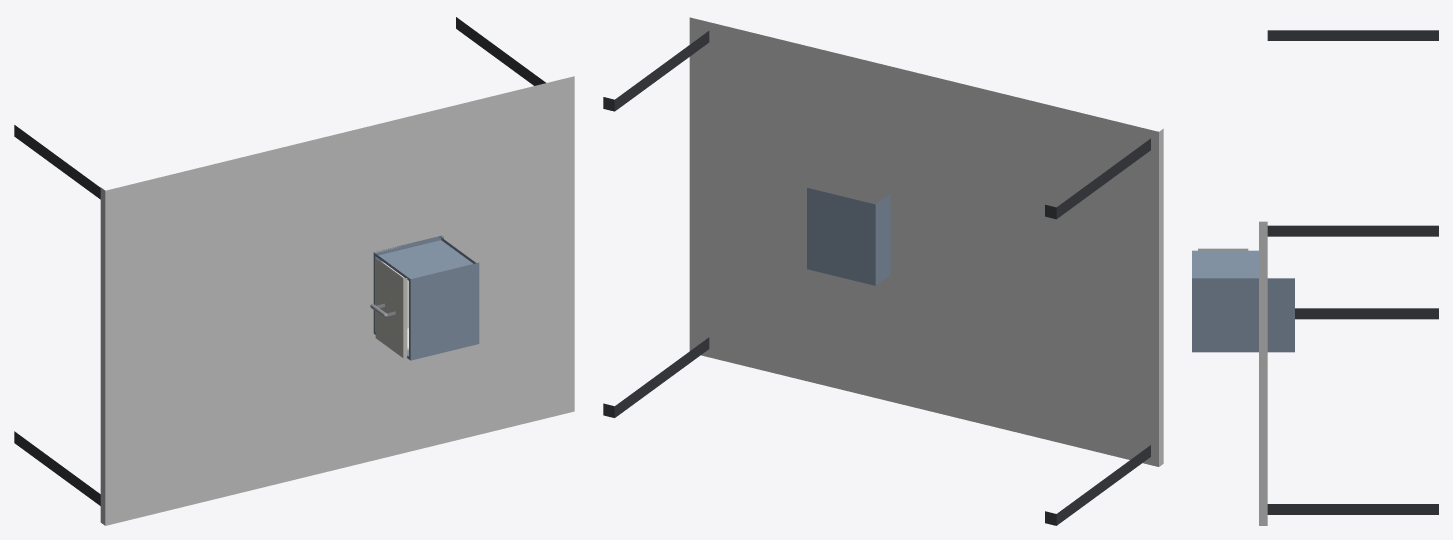
File: t2_db4decf535.glb
3 renders of one model, left to right at view 1: azimuth 30°, elevation 25°; view 2: azimuth 150°, elevation 25°; view 3: azimuth 270°, elevation 25°, orthographic. The views are drawn at different scales.
Parts seen in each view (by area): view 1: s0, s1, s2; view 2: s0, s1; view 3: s0, s1.
Part boxes in pixels (<box>): s0: <box>14,17,574,525</box>; s1: <box>373,235,479,360</box>; s2: <box>370,259,408,358</box>; s0: <box>603,17,1163,525</box>; s1: <box>807,188,890,285</box>; s0: <box>1259,30,1438,525</box>; s1: <box>1192,250,1294,352</box>.
Size of the model in its own units: 2.05 by 1.4 by 1.03.
